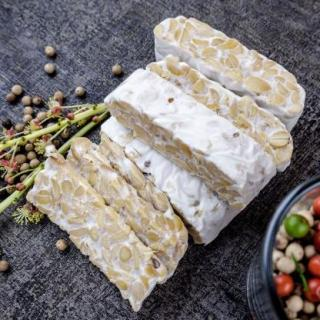Tempe: (26, 136, 191, 315), (151, 12, 310, 129)
